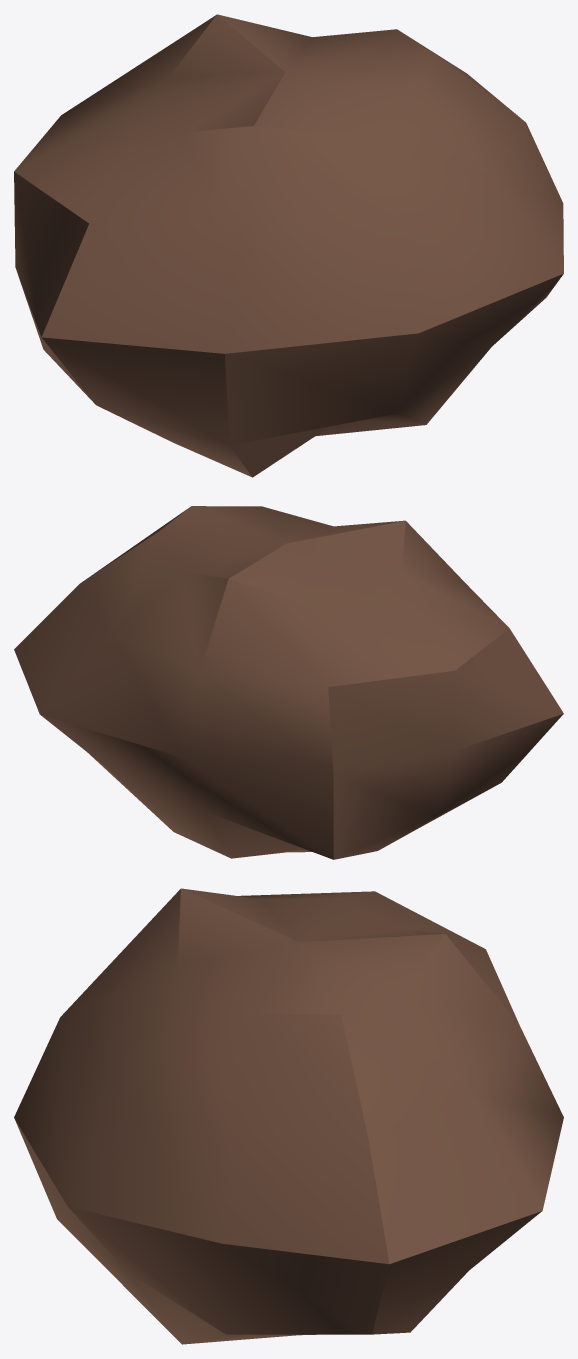
Rendered from CandyRock_Choco.fbx.
3 renders of one model, top to bottom at view 1: azimuth 30°, elevation 25°; view 2: azimuth 150°, elevation 25°; view 3: azimuth 270°, elevation 25°, orthographic. The views are drawn at different scales.
Parts seen in each view (by area): view 1: CandyRock_Choco; view 2: CandyRock_Choco; view 3: CandyRock_Choco.
Boxes of the visible parts, x1,y1,x2,y2 form: CandyRock_Choco: (14, 14, 563, 477); CandyRock_Choco: (14, 506, 563, 859); CandyRock_Choco: (14, 888, 563, 1344).
Size of the model in its own units: 4.89 by 3.08 by 3.83.
